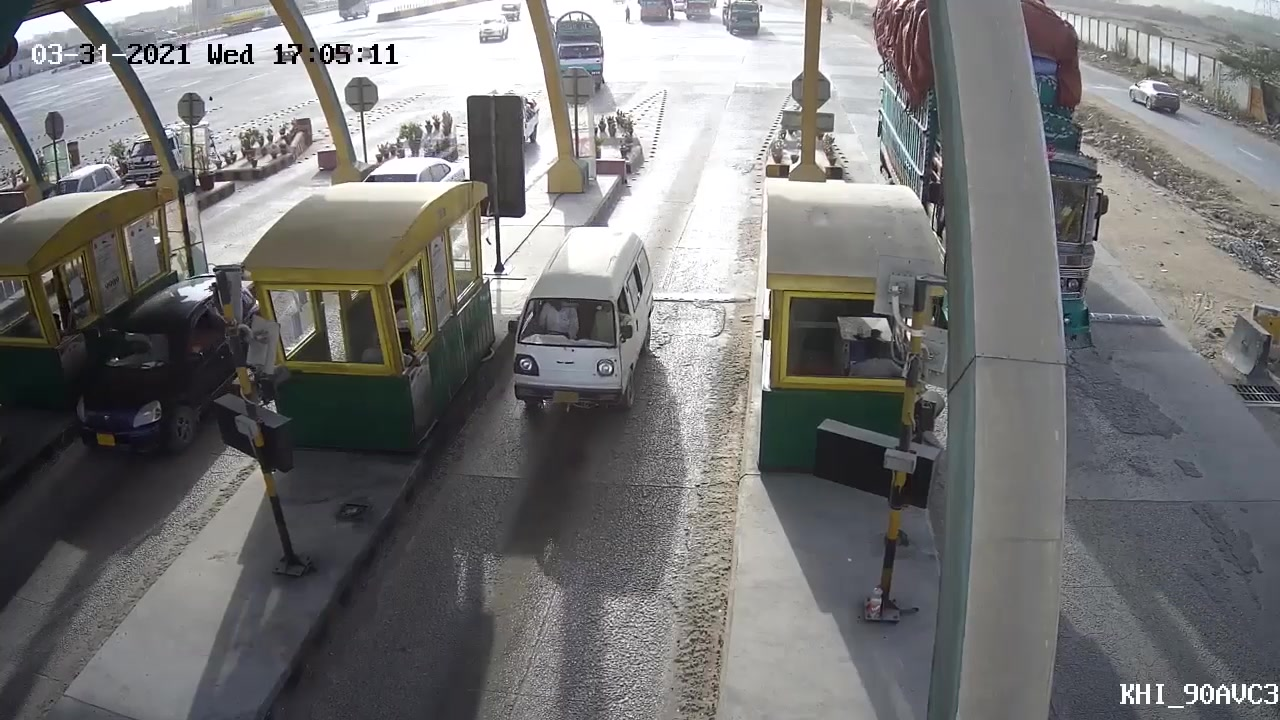F1: (495, 224, 657, 431)
